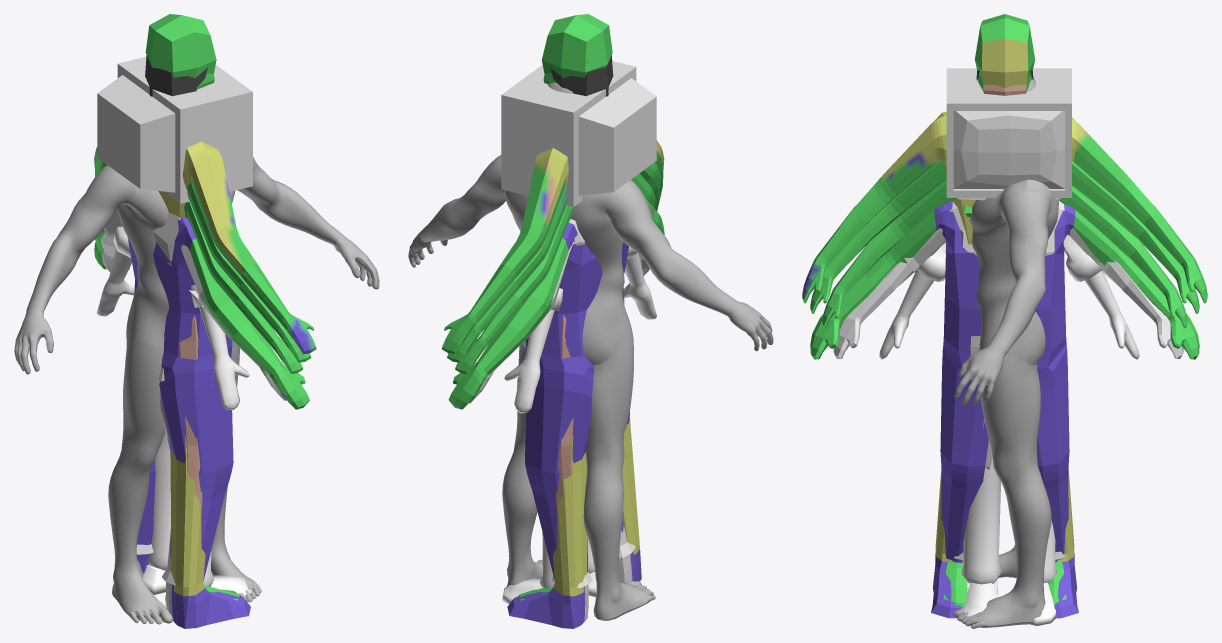
File: follower_woman_1.glb
3 views of the same model, side by side, from view 1: azimuth 30°, elevation 25°; view 2: azimuth 150°, elevation 25°; view 3: azimuth 270°, elevation 25° (orthographic).
Visible parts, largest first — view 1: VM_Basemesh_Male_v2, Cube, man_A, Cube.001, B0by_Body, woman_A, woman_B, Cube.003, Cube.004, woman_A_hair; view 2: VM_Basemesh_Male_v2, man_A, Cube, Cube.001, B0by_Body, woman_A, woman_B, Cube.003, woman_A_hair; view 3: VM_Basemesh_Male_v2, Cube, man_A, Cube.001, B0by_Body, woman_B, woman_A, Cube.003, Cube.004.
Boxes of the visible parts, x1,y1,x2,y2 form: VM_Basemesh_Male_v2: [14, 156, 379, 624]; Cube: [94, 217, 309, 622]; man_A: [94, 14, 316, 628]; Cube.001: [97, 57, 252, 203]; B0by_Body: [97, 226, 250, 605]; woman_A: [98, 73, 311, 514]; woman_B: [184, 201, 303, 600]; Cube.003: [100, 210, 286, 615]; Cube.004: [153, 213, 205, 381]; woman_A_hair: [145, 55, 207, 96]; VM_Basemesh_Male_v2: [408, 82, 773, 620]; man_A: [442, 14, 664, 628]; Cube: [448, 198, 664, 622]; Cube.001: [501, 61, 656, 206]; B0by_Body: [502, 246, 656, 607]; woman_A: [447, 73, 660, 522]; woman_B: [455, 173, 655, 600]; Cube.003: [469, 219, 649, 622]; woman_A_hair: [550, 44, 613, 96]; VM_Basemesh_Male_v2: [954, 77, 1058, 628]; Cube: [810, 201, 1199, 562]; man_A: [802, 14, 1207, 618]; Cube.001: [946, 68, 1071, 197]; B0by_Body: [879, 201, 1139, 625]; woman_B: [822, 179, 1187, 606]; woman_A: [810, 75, 1199, 607]; Cube.003: [833, 202, 1183, 593]; Cube.004: [904, 202, 980, 354].
Bounding box in the file's own units: 1.28 × 2 × 1.26.
Materials: 3 (1 with a texture image).
